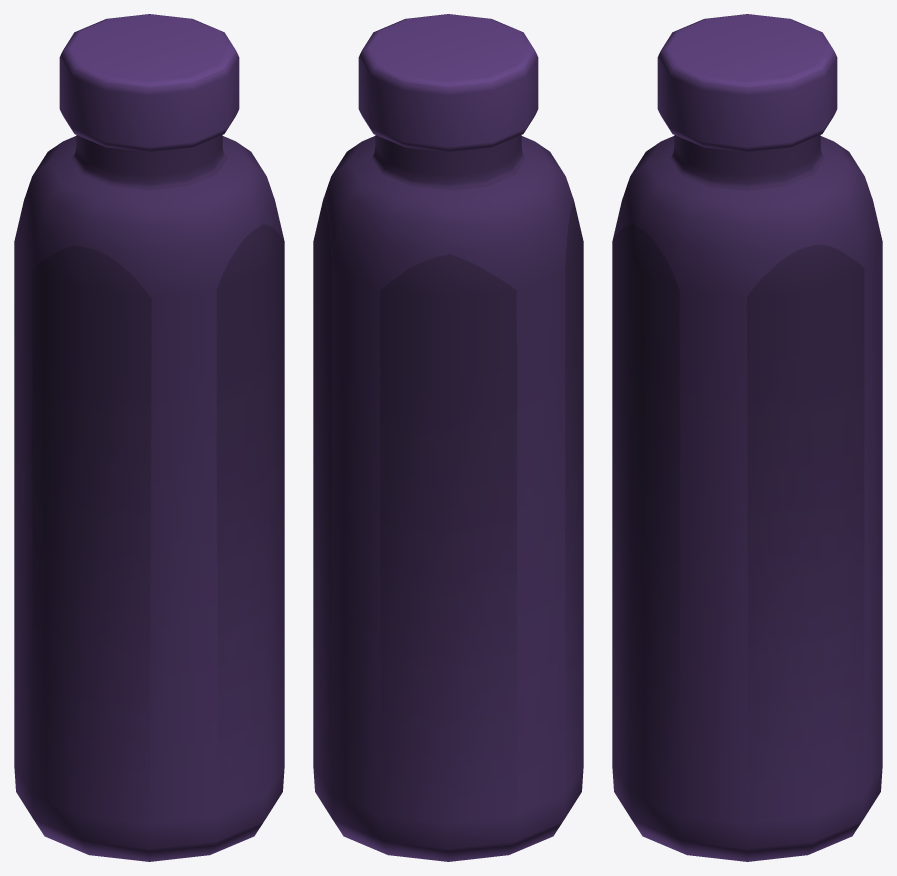
Rendered from Bottle07.fbx.
3 renders of one model, left to right at view 1: azimuth 30°, elevation 25°; view 2: azimuth 150°, elevation 25°; view 3: azimuth 270°, elevation 25°, orthographic.
Parts seen in each view (by area): view 1: Bottle7; view 2: Bottle7; view 3: Bottle7.
Boxes of the visible parts, x1,y1,x2,y2 form: Bottle7: [14, 14, 284, 861]; Bottle7: [313, 14, 583, 861]; Bottle7: [612, 14, 882, 861].
Size of the model in its own units: 32.62 by 102 by 32.62.
